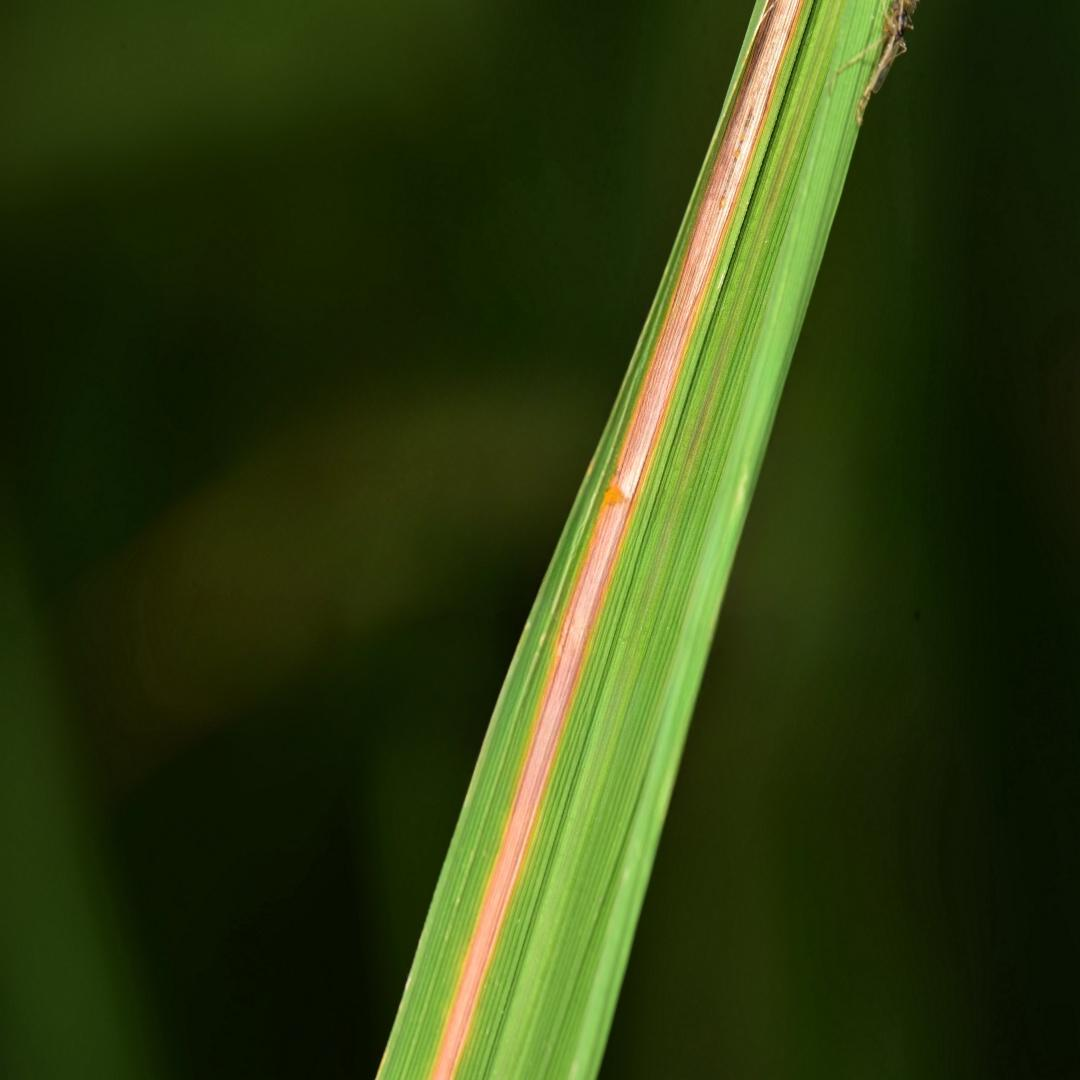BLB: (429, 0, 805, 1078)
LEAF: (376, 0, 884, 1079)
